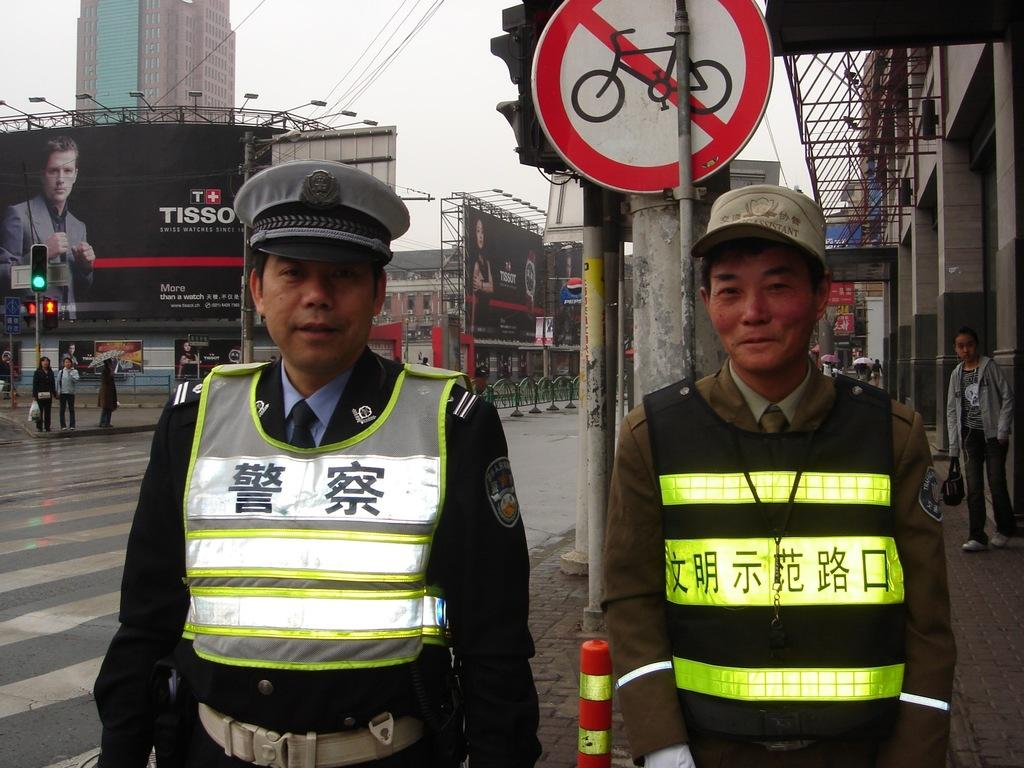Hat: (234, 160, 410, 264), (688, 184, 828, 271)
